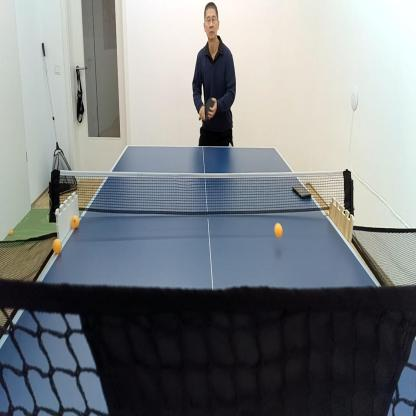Ball: (275, 221, 282, 238), (54, 239, 61, 255), (71, 214, 79, 227), (9, 227, 14, 235)
